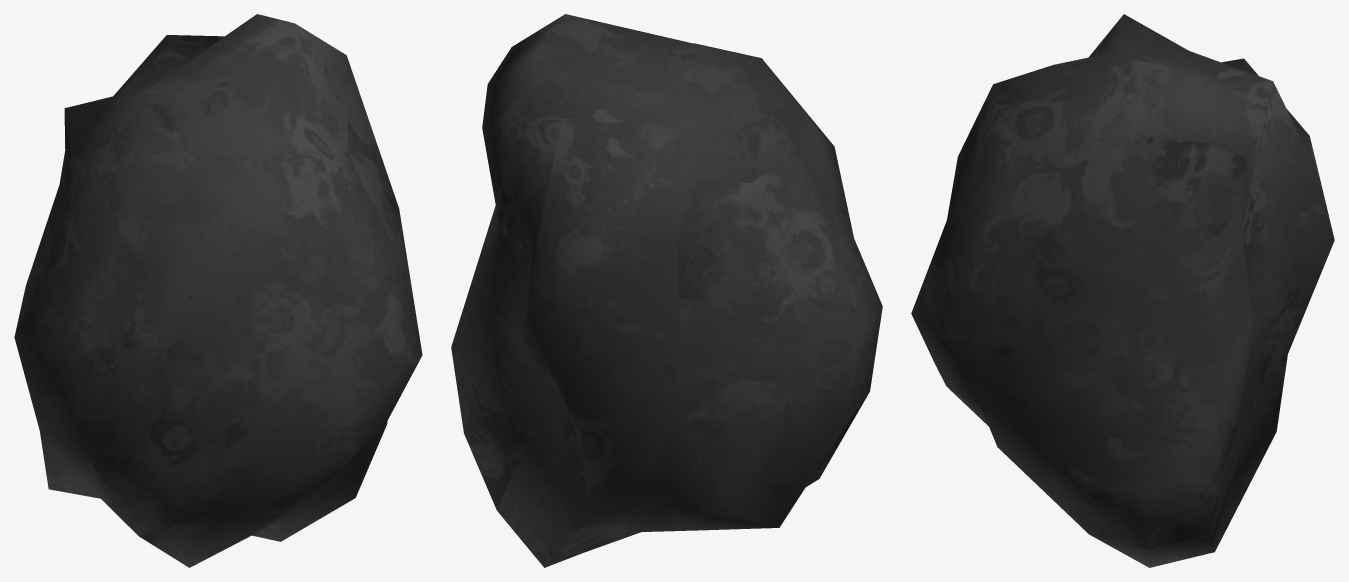
The model's file is asteroid.fbx.
3 renders of one model, left to right at view 1: azimuth 30°, elevation 25°; view 2: azimuth 150°, elevation 25°; view 3: azimuth 270°, elevation 25°, orthographic. The views are drawn at different scales.
Visible parts, largest first — view 1: pCube1; view 2: pCube1; view 3: pCube1.
Part boxes in pixels (x1=…): pCube1: x1=14, y1=14, x2=422, y2=567; pCube1: x1=451, y1=14, x2=882, y2=567; pCube1: x1=911, y1=14, x2=1334, y2=567.
Size of the model in its own units: 10.91 by 15.21 by 11.54.
1 material, 1 textured.
